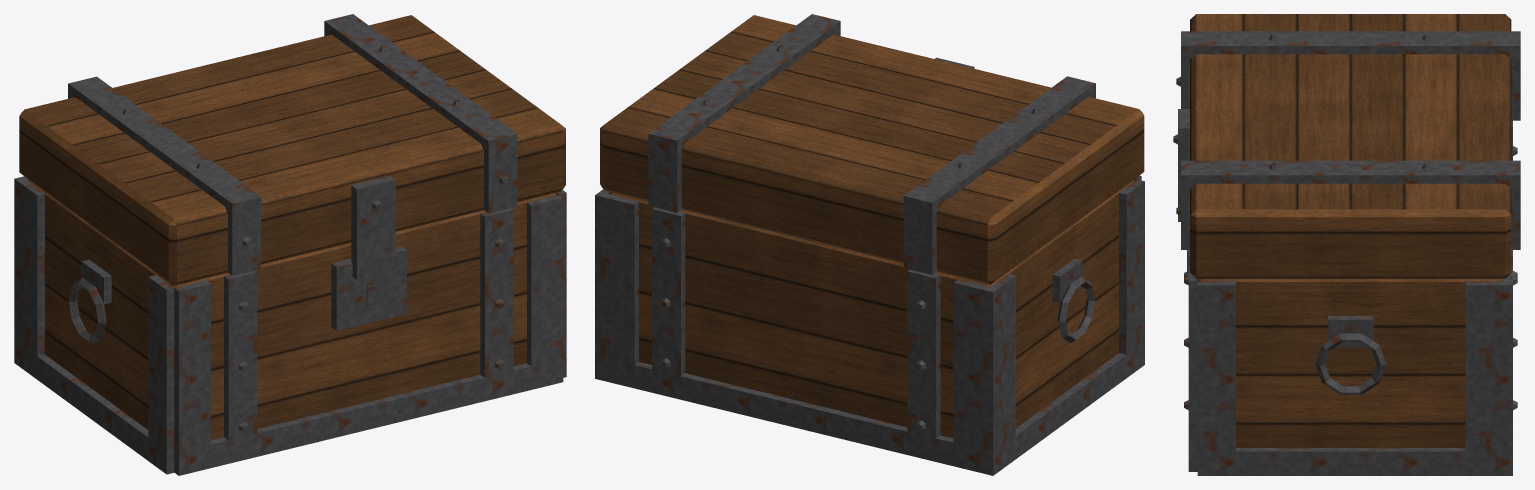
Rendered from chest-closed.glb.
3 renders of one model, left to right at view 1: azimuth 30°, elevation 25°; view 2: azimuth 150°, elevation 25°; view 3: azimuth 270°, elevation 25°, orthographic. The views are drawn at different scales.
Visible parts, largest first — view 1: Chest_Body, Chest_Lid; view 2: Chest_Body, Chest_Lid; view 3: Chest_Lid, Chest_Body.
Part boxes in pixels (x1=…): Chest_Body: x1=14, y1=176, x2=566, y2=475; Chest_Lid: x1=19, y1=14, x2=565, y2=285; Chest_Body: x1=595, y1=175, x2=1144, y2=475; Chest_Lid: x1=600, y1=14, x2=1144, y2=284; Chest_Lid: x1=1173, y1=14, x2=1520, y2=278; Chest_Body: x1=1184, y1=120, x2=1517, y2=475.
Bounding box in the file's own units: 0.653 × 0.398 × 0.454.
Materials: 3 (3 with a texture image).
